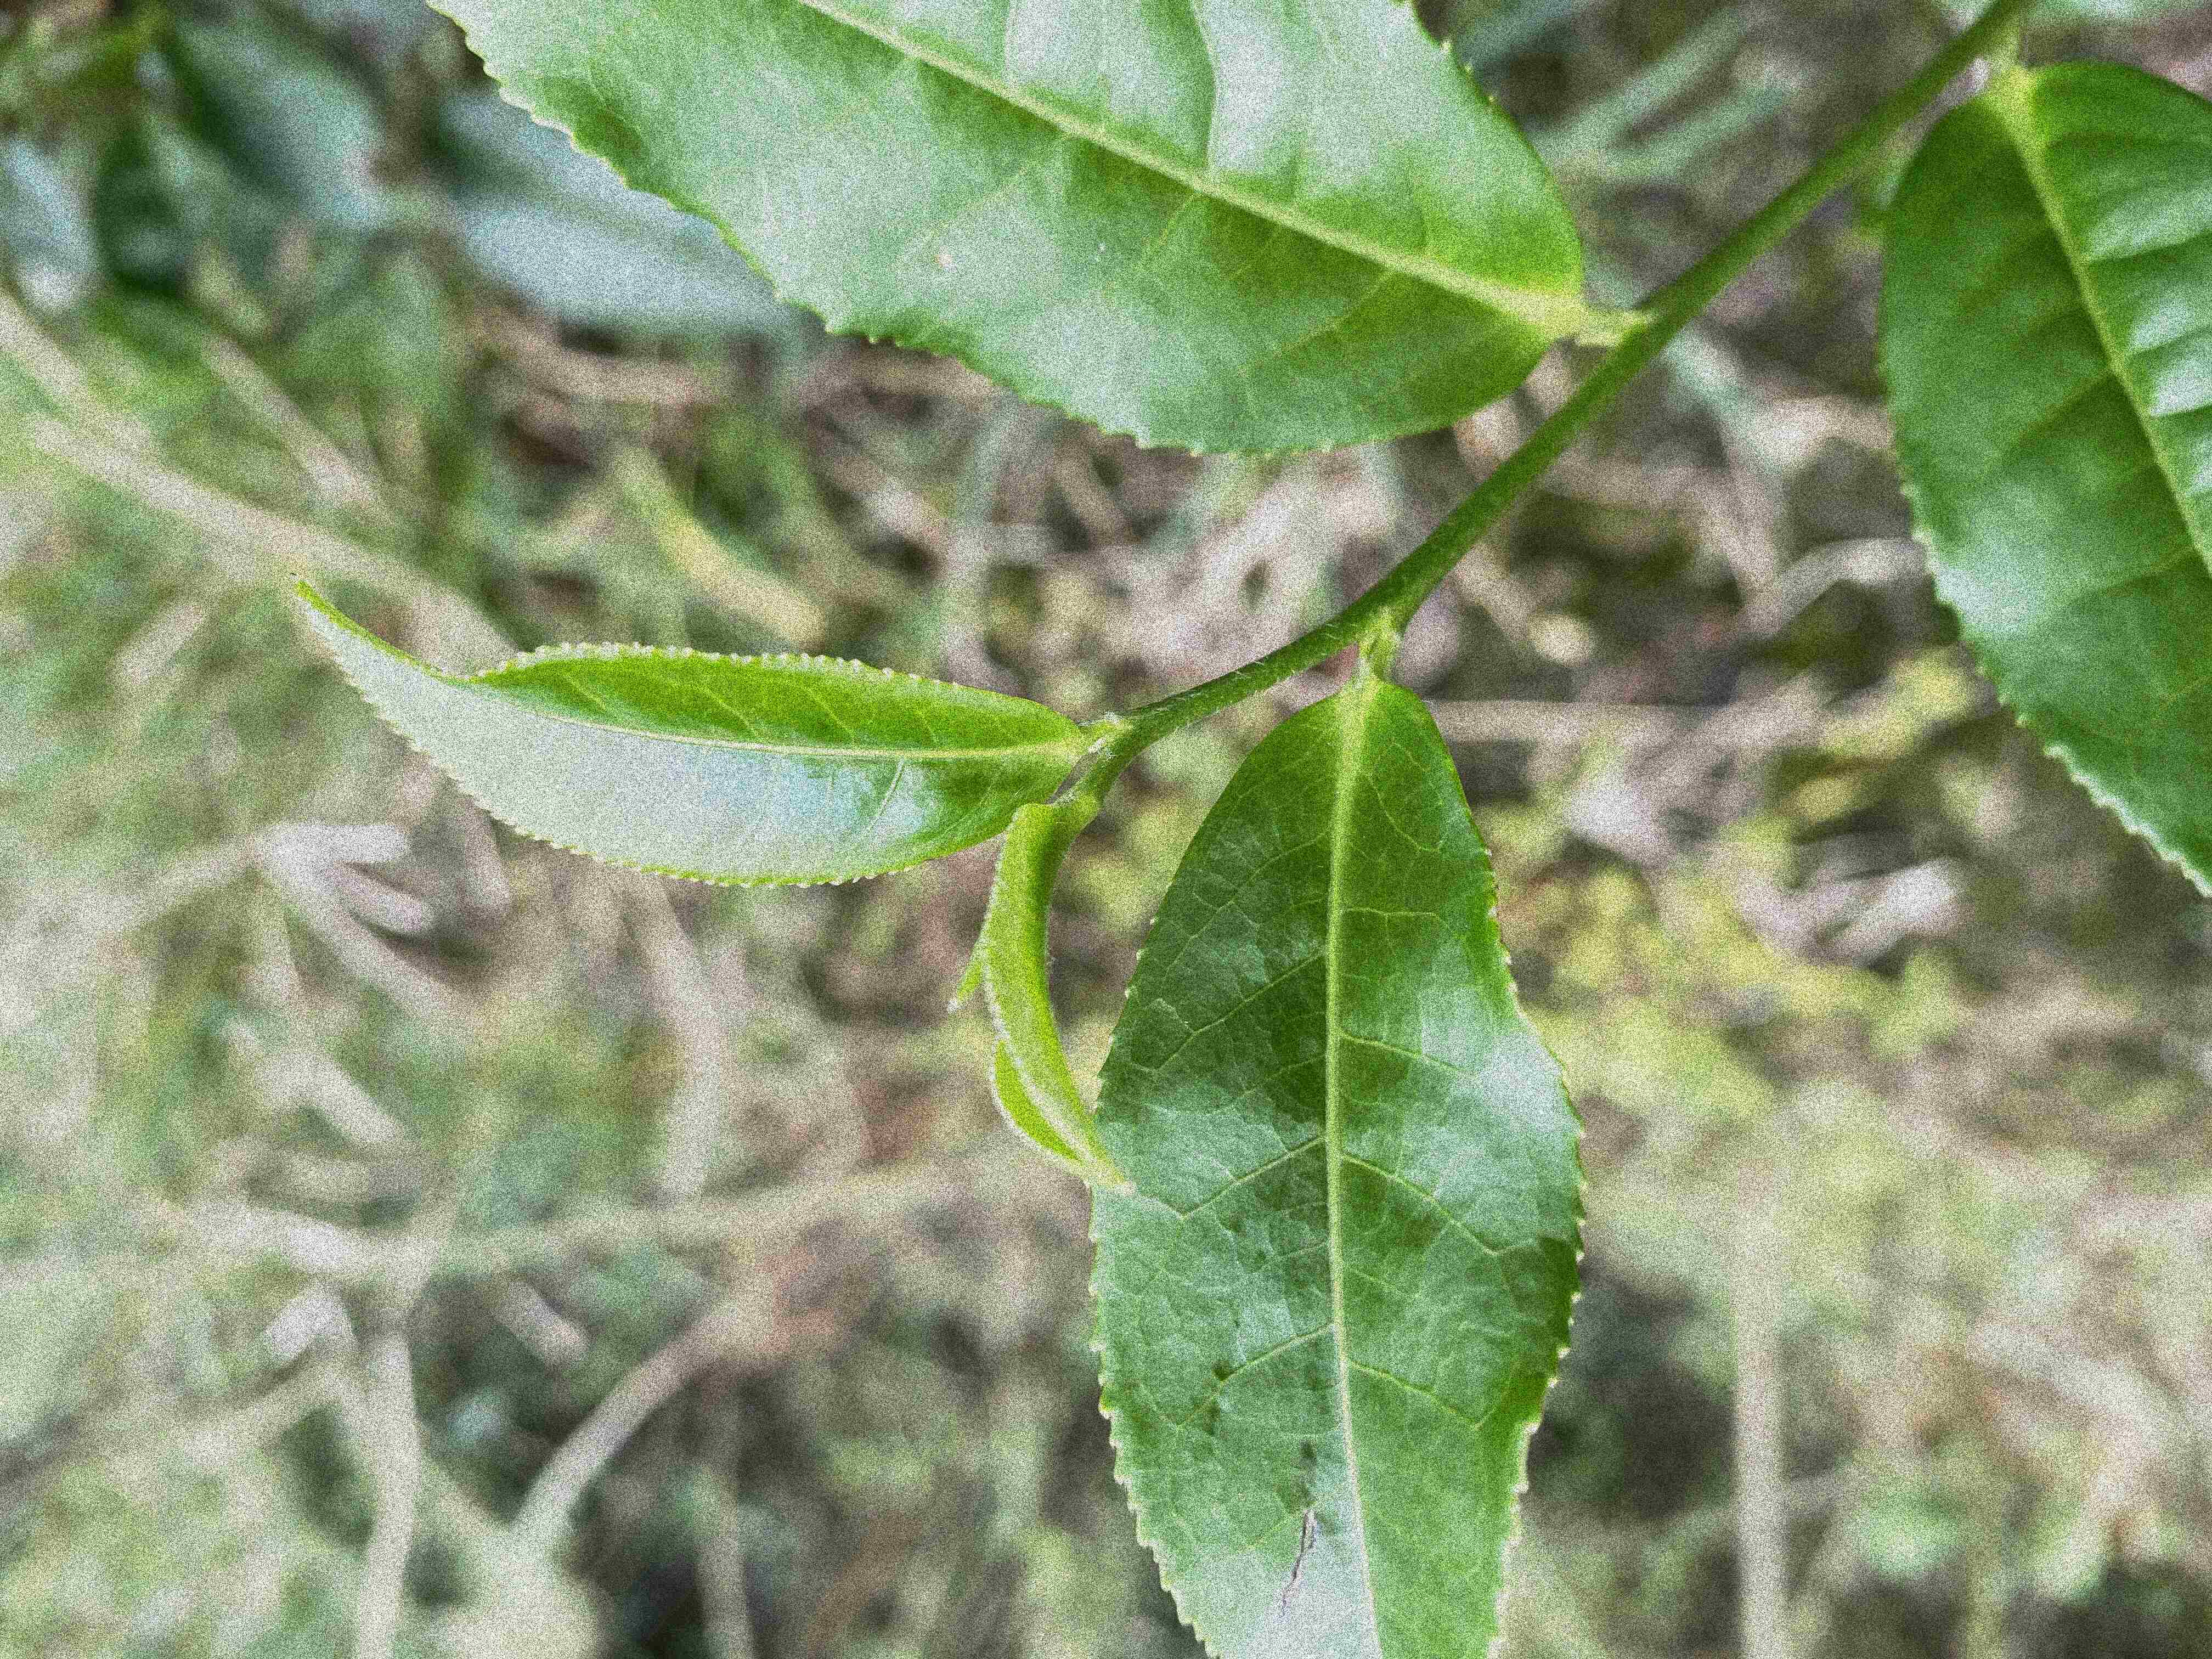healthy: (411, 0, 1587, 464), (1874, 54, 2210, 906), (291, 579, 1089, 890)
tanju_low: (1083, 669, 1588, 1656)
